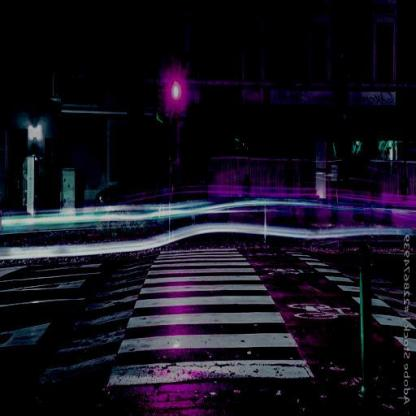crosswalk: (116, 307, 298, 358), (133, 274, 281, 298), (152, 247, 252, 259)
